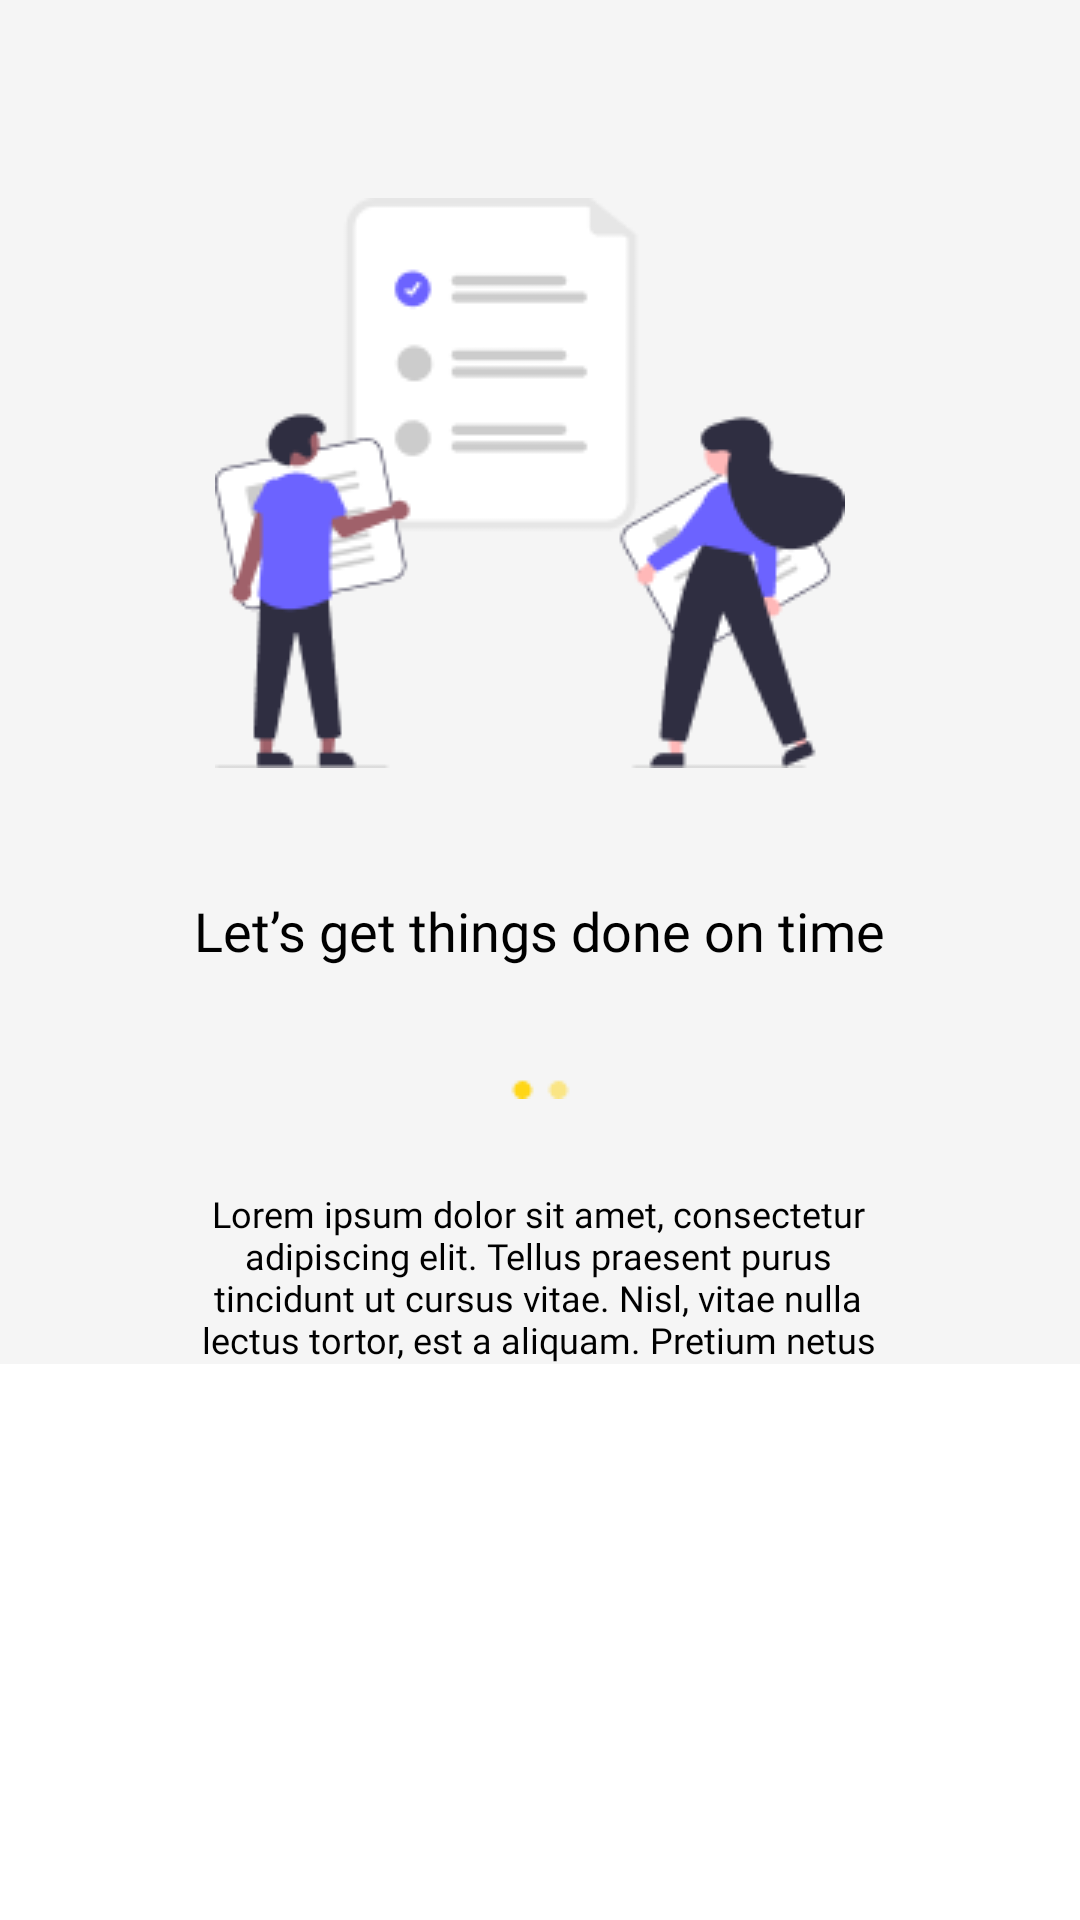

Icons on this 1080 × 1920 Android screen, each with its box as {"x1": x1, "y1": y1, "x2": x2, "y2": y2}:
ind sc: {"x1": 511, "y1": 1080, "x2": 569, "y2": 1099}
